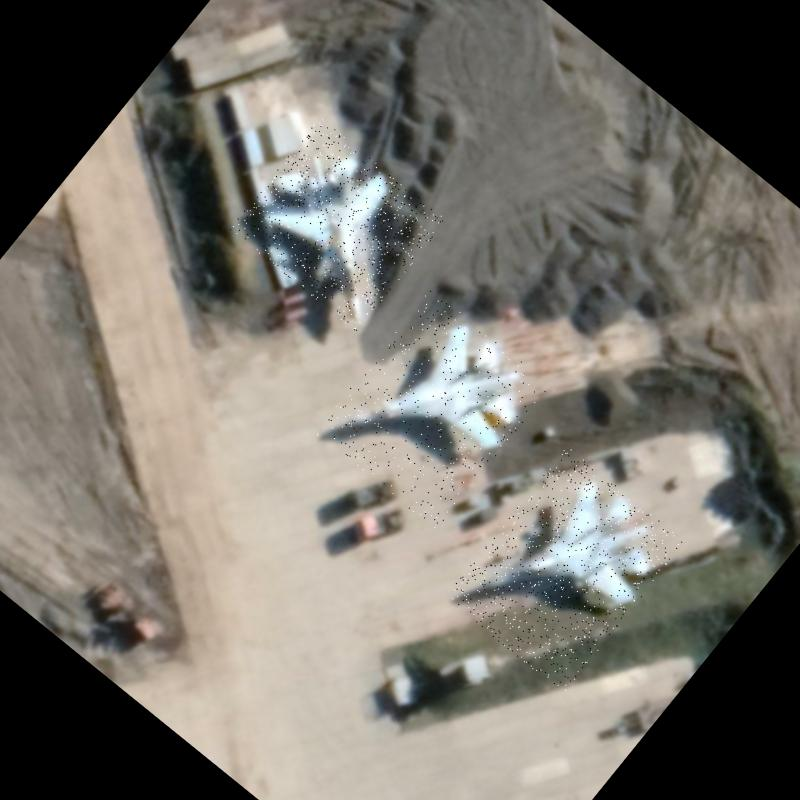A1: (443, 446, 686, 694), (312, 288, 552, 530), (228, 117, 446, 332)
